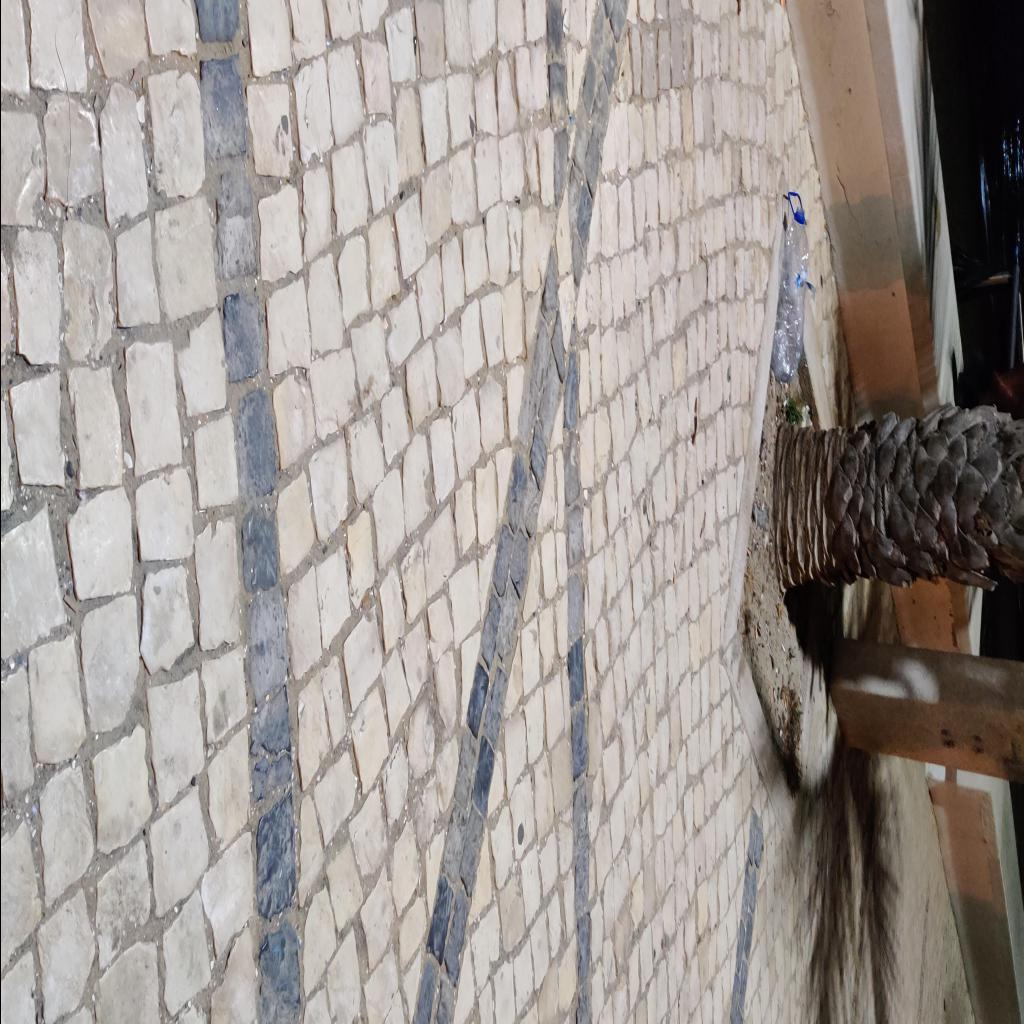Cigarette: (673, 571, 676, 588), (754, 625, 756, 639)
Clear plastic bottle: (770, 192, 810, 382)
